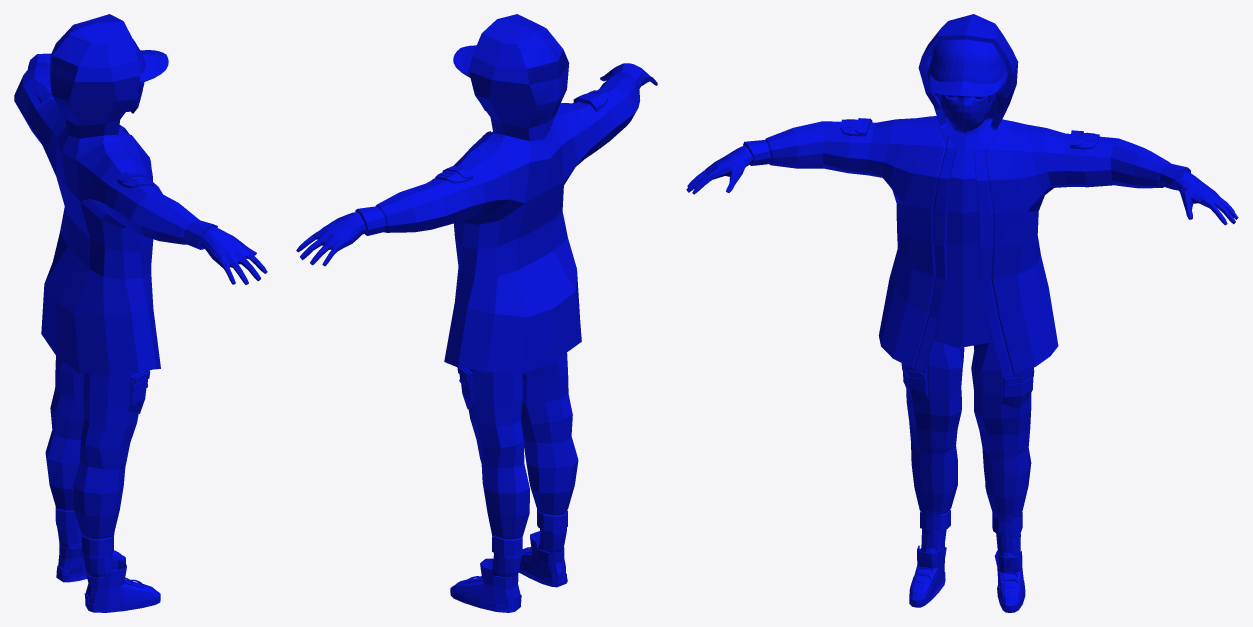
Rendered from thischaracter_1.fbx.
The picture shows the model from 3 angles, left to right: view 1: azimuth 30°, elevation 25°; view 2: azimuth 150°, elevation 25°; view 3: azimuth 270°, elevation 25°; orthographic projection.
Parts seen in each view (by area): view 1: Cloth.004; view 2: Cloth.004; view 3: Cloth.004.
Part boxes in pixels (box(x1,y1,x2,y2)): Cloth.004: box(14, 14, 267, 612); Cloth.004: box(296, 14, 657, 612); Cloth.004: box(686, 14, 1238, 612).
Size of the model in its own units: 64.53 by 252 by 222.
